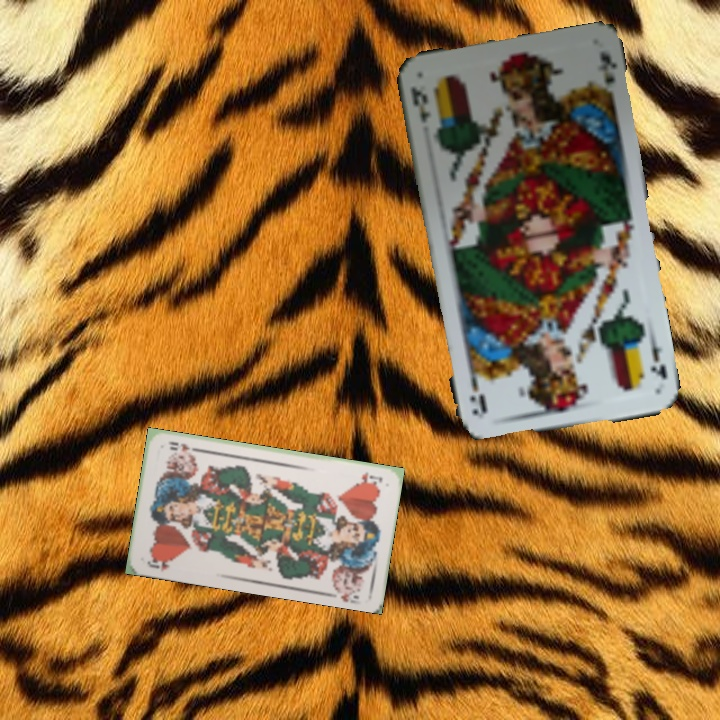EK: (645, 331, 669, 382), (406, 82, 433, 125)
HO: (143, 553, 175, 574), (357, 468, 385, 486)
